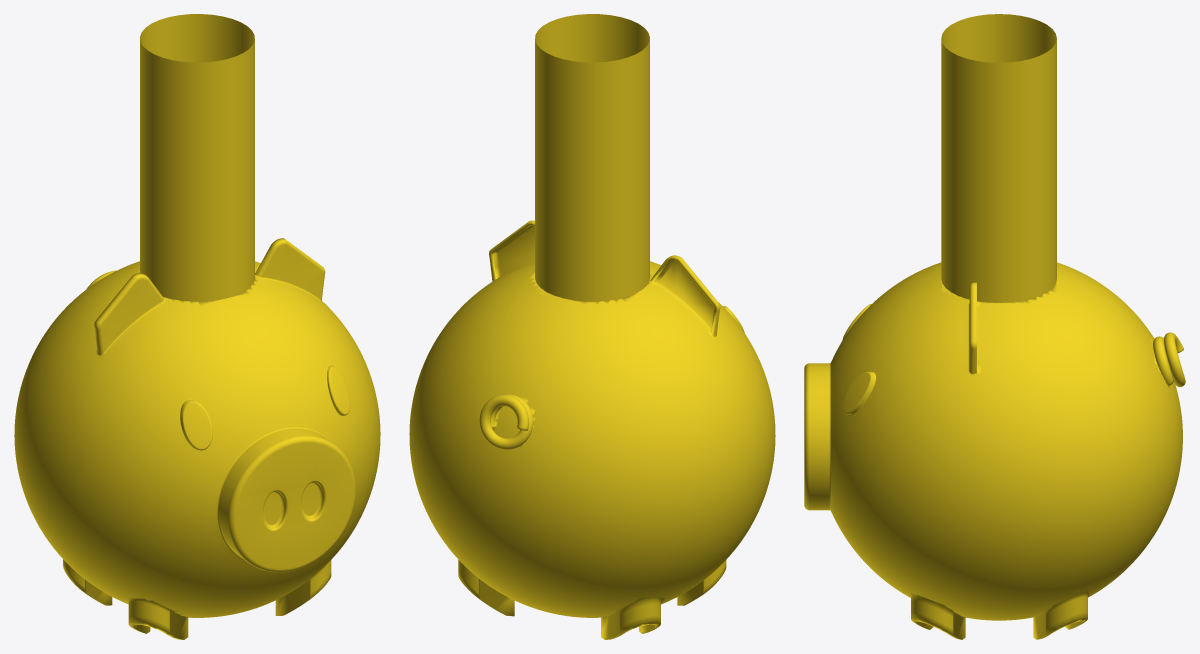
Rendered from glass.glb.
3 renders of one model, left to right at view 1: azimuth 30°, elevation 25°; view 2: azimuth 150°, elevation 25°; view 3: azimuth 270°, elevation 25°, orthographic.
Visible parts, largest first — view 1: imagetostl_mesh0; view 2: imagetostl_mesh0; view 3: imagetostl_mesh0.
Part boxes in pixels (left/top/right/bottom): imagetostl_mesh0: left=14, top=14, right=380, bottom=639; imagetostl_mesh0: left=409, top=14, right=775, bottom=639; imagetostl_mesh0: left=804, top=14, right=1185, bottom=639.
Size of the model in its own units: 6.36 by 10.79 by 6.6.
